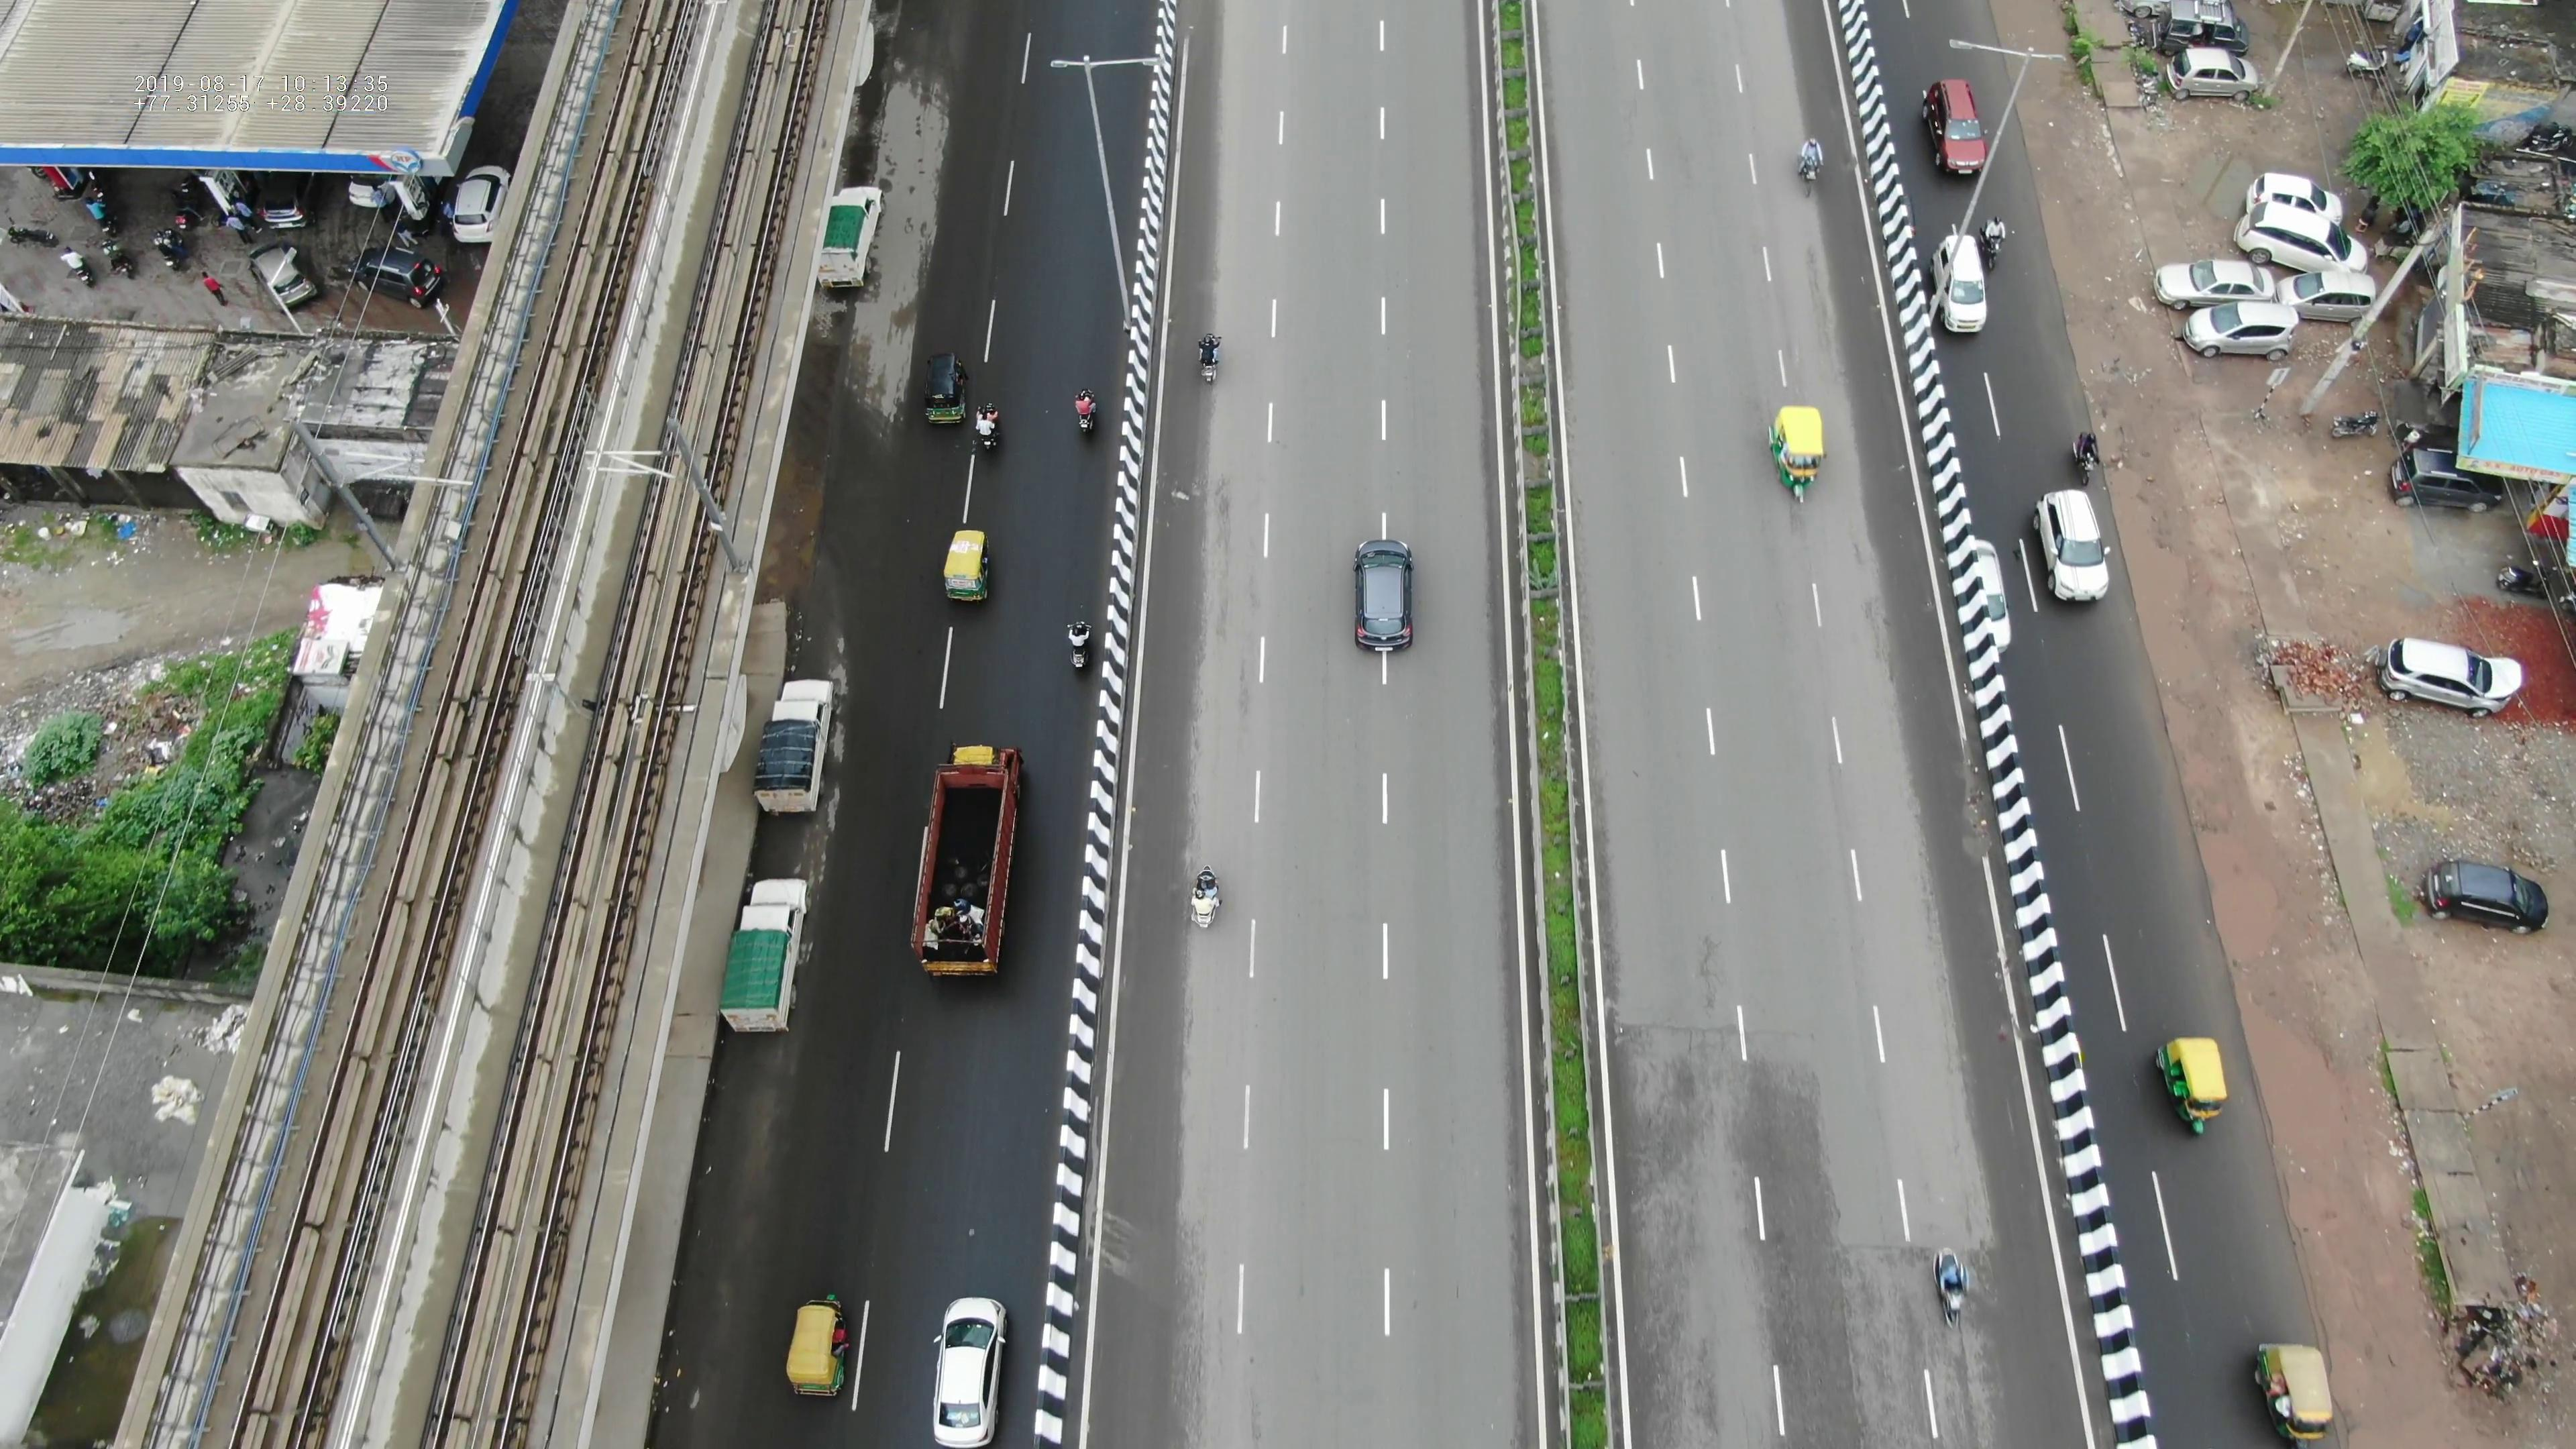Hair_cracks: (1633, 966, 1824, 1079)
